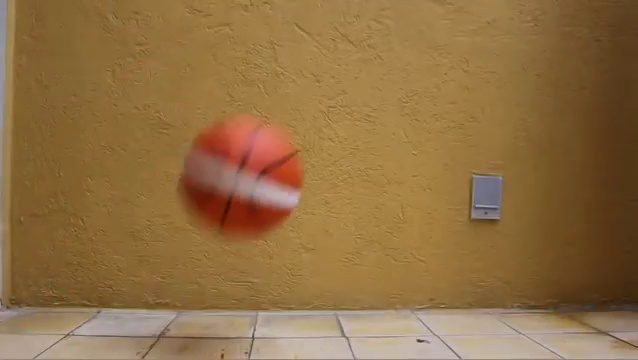ball: (178, 114, 304, 239)
